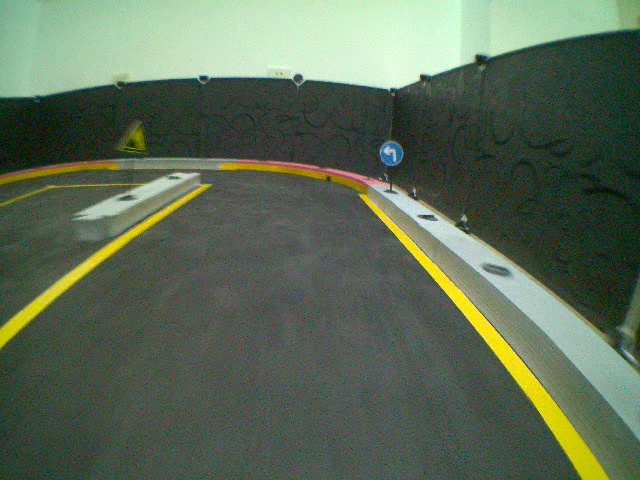fast: (117, 120, 149, 154)
turn: (379, 139, 404, 167)
